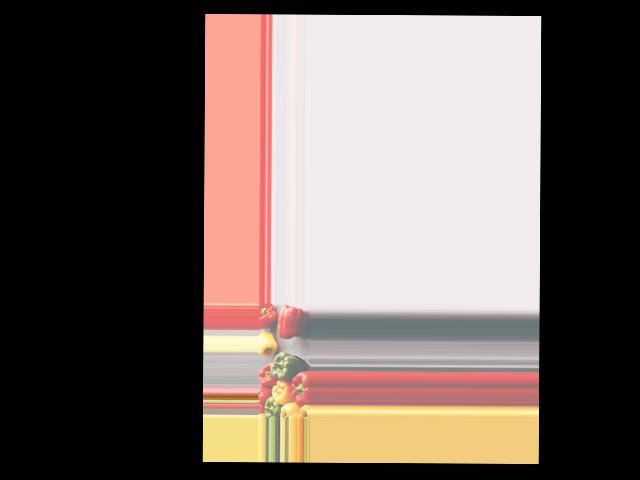bell_pepper: (260, 302, 276, 329)
